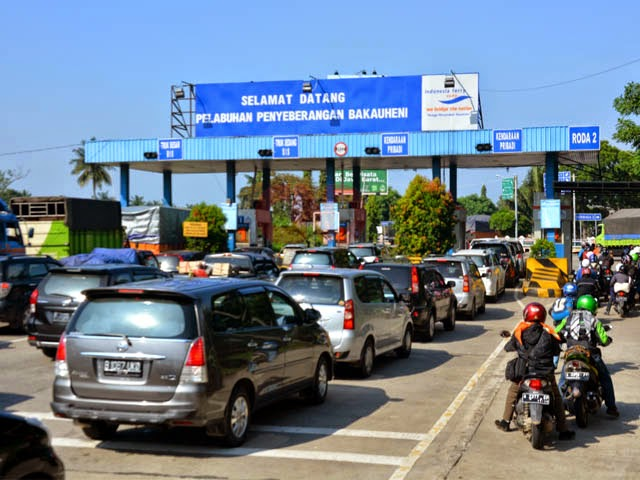plate: (98, 359, 139, 379), (522, 392, 548, 401)
